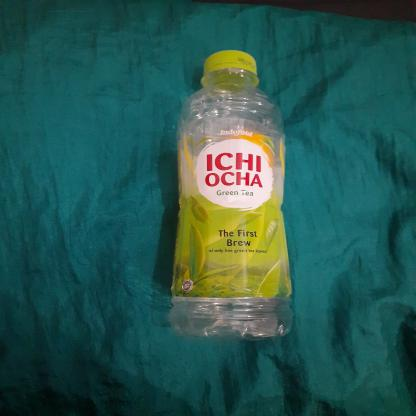bottle: (164, 43, 300, 344)
